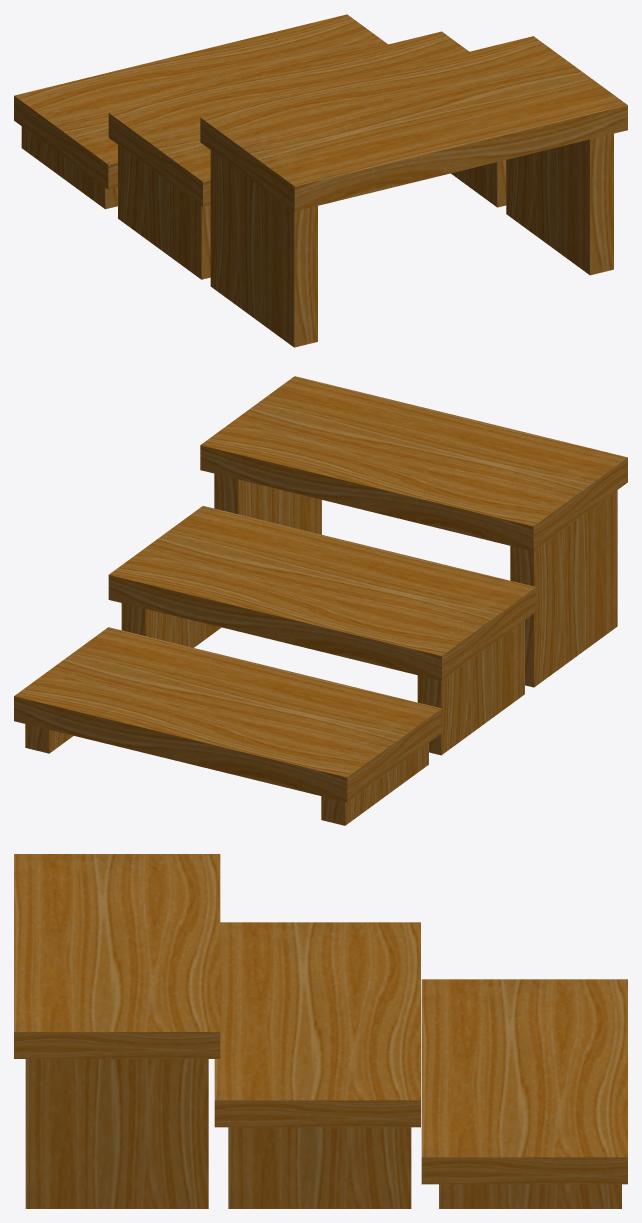
The model's file is Stairs.fbx.
The picture shows the model from 3 angles, top to bottom: view 1: azimuth 30°, elevation 25°; view 2: azimuth 150°, elevation 25°; view 3: azimuth 270°, elevation 25°; orthographic projection. The views are drawn at different scales.
Visible parts, largest first — view 1: SmallStairs; view 2: SmallStairs; view 3: SmallStairs.
Part boxes in pixels (x1,y1,x2,y2): SmallStairs: [14, 14, 627, 347]; SmallStairs: [14, 376, 627, 825]; SmallStairs: [14, 854, 627, 1208].
Size of the model in its own units: 6.71 by 3.2 by 9.79.
